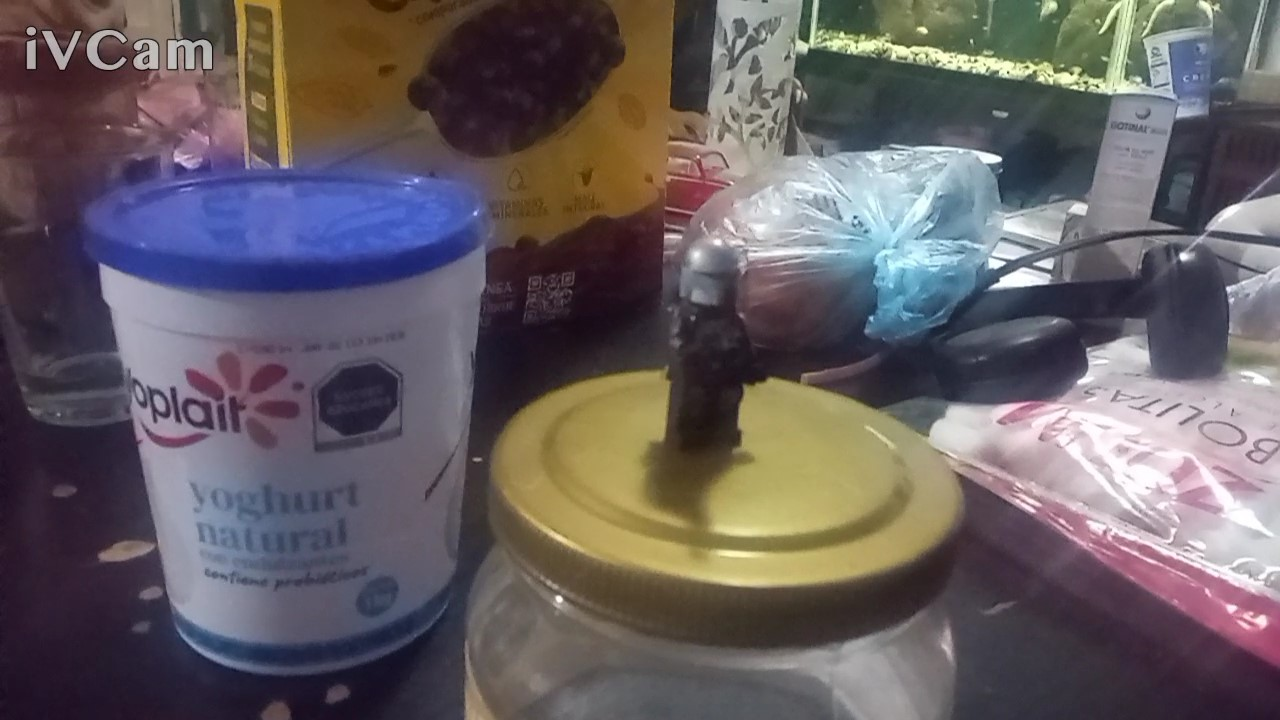mandalorian: (648, 219, 797, 473)
